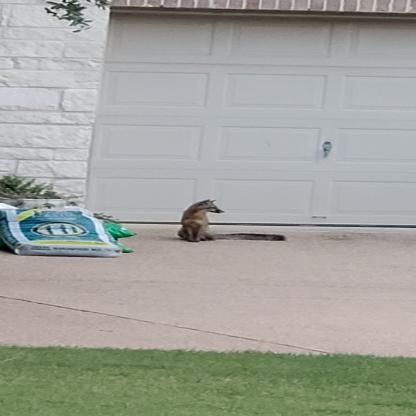zorro: (178, 193, 288, 248)
